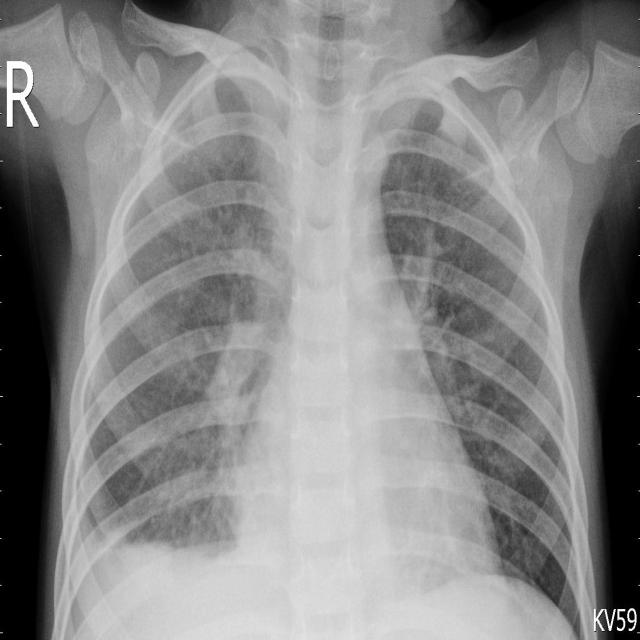low-pneumonia: (192, 165, 302, 534), (403, 215, 527, 490), (249, 61, 295, 209)
